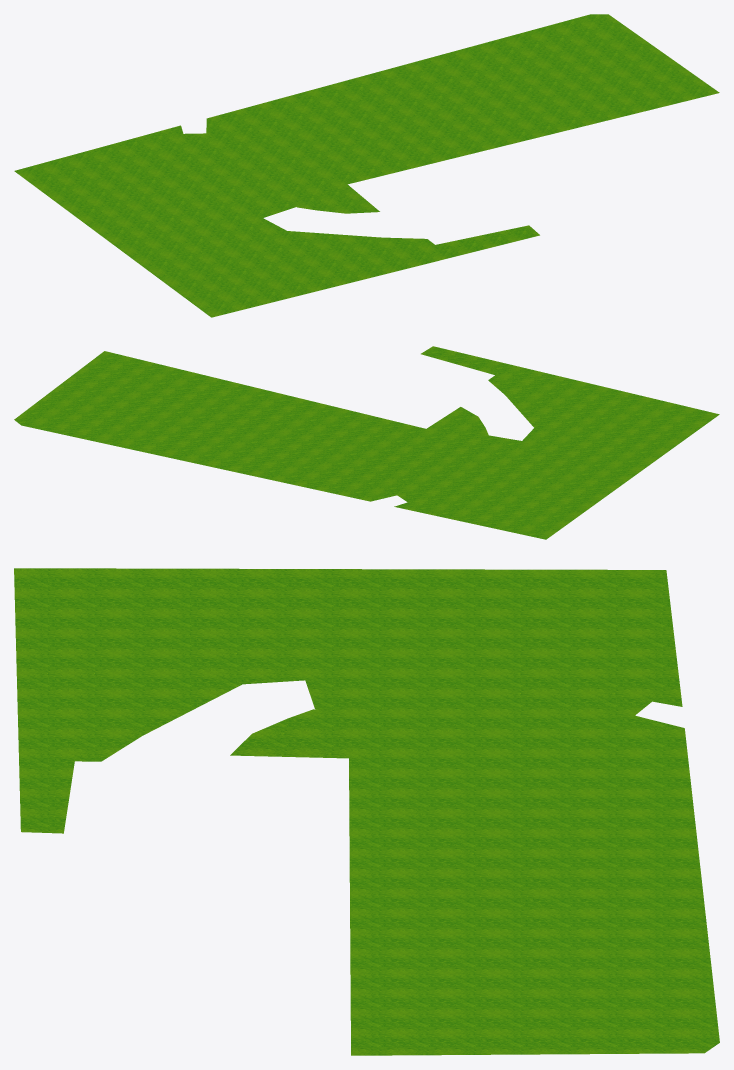
The model's file is 大草皮.fbx.
The picture shows the model from 3 angles, top to bottom: view 1: azimuth 30°, elevation 25°; view 2: azimuth 150°, elevation 25°; view 3: azimuth 270°, elevation 25°; orthographic projection. The views are drawn at different scales.
Visible parts, largest first — view 1: 草皮; view 2: 草皮; view 3: 草皮.
Part boxes in pixels (x1,y1,x2,y2): 草皮: (14, 14, 719, 317); 草皮: (14, 346, 719, 539); 草皮: (14, 568, 719, 1055).
Bounding box in the file's own units: 4875 × 0.000486 × 2983.
1 material, 1 textured.
